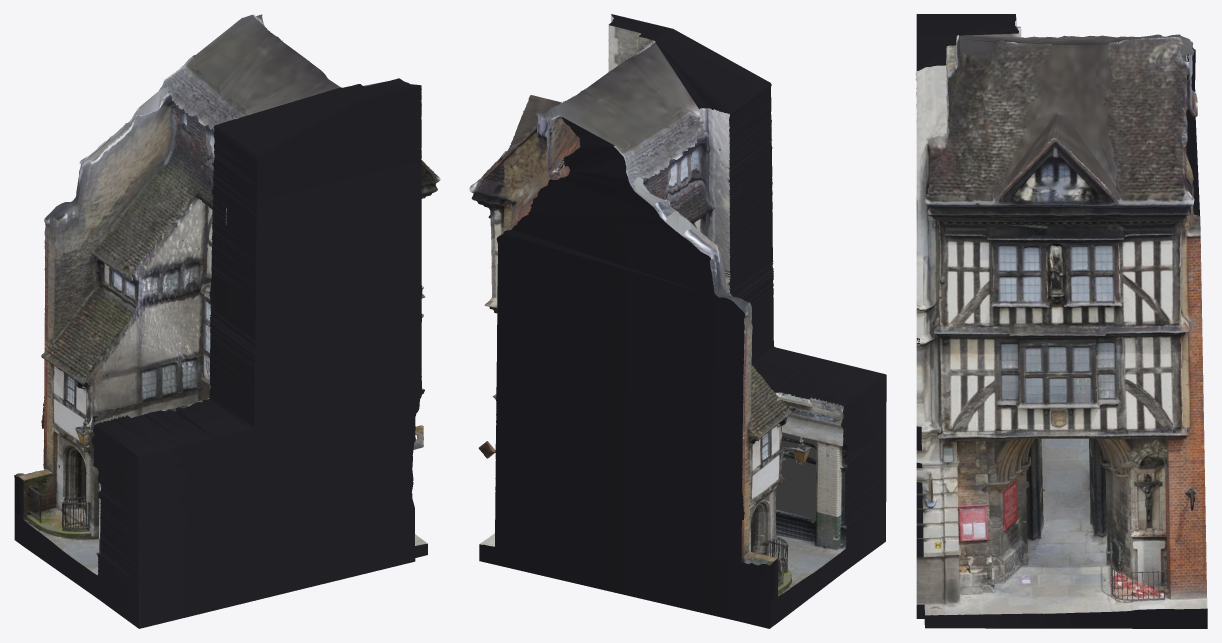
The model's file is st_bartholomews_gatehouse.glb.
3 views of the same model, side by side, from view 1: azimuth 30°, elevation 25°; view 2: azimuth 150°, elevation 25°; view 3: azimuth 270°, elevation 25° (orthographic). The views are drawn at different scales.
Visible parts, largest first — view 1: Object_2; view 2: Object_2, Object_15; view 3: Object_2.
Boxes of the visible parts, x1,y1,x2,y2 form: Object_2: (14,14,440,628); Object_2: (469,14,886,628); Object_15: (776,432,816,528); Object_2: (915,14,1207,628).
Bounding box in the file's own units: 29.65 × 43.09 × 20.61.
2 materials, 1 textured.
